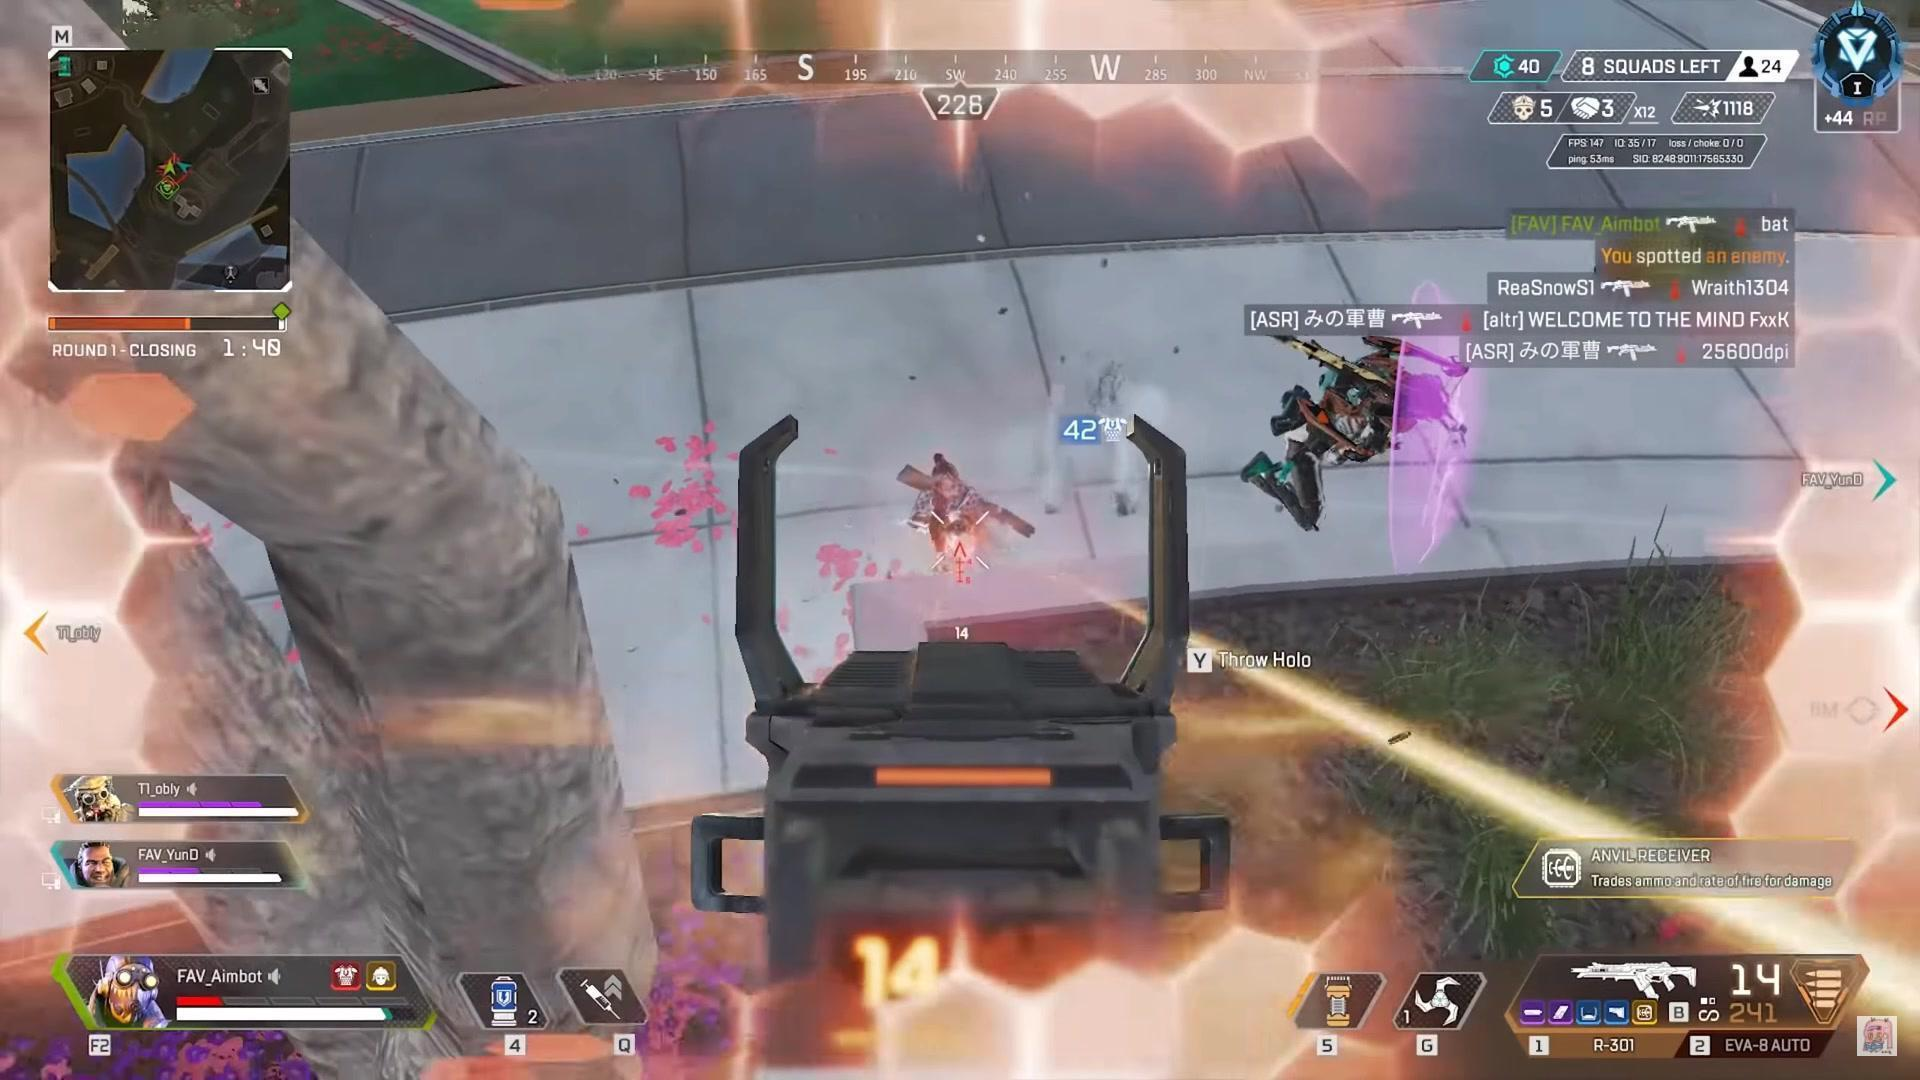avatar: (903, 450, 989, 558)
